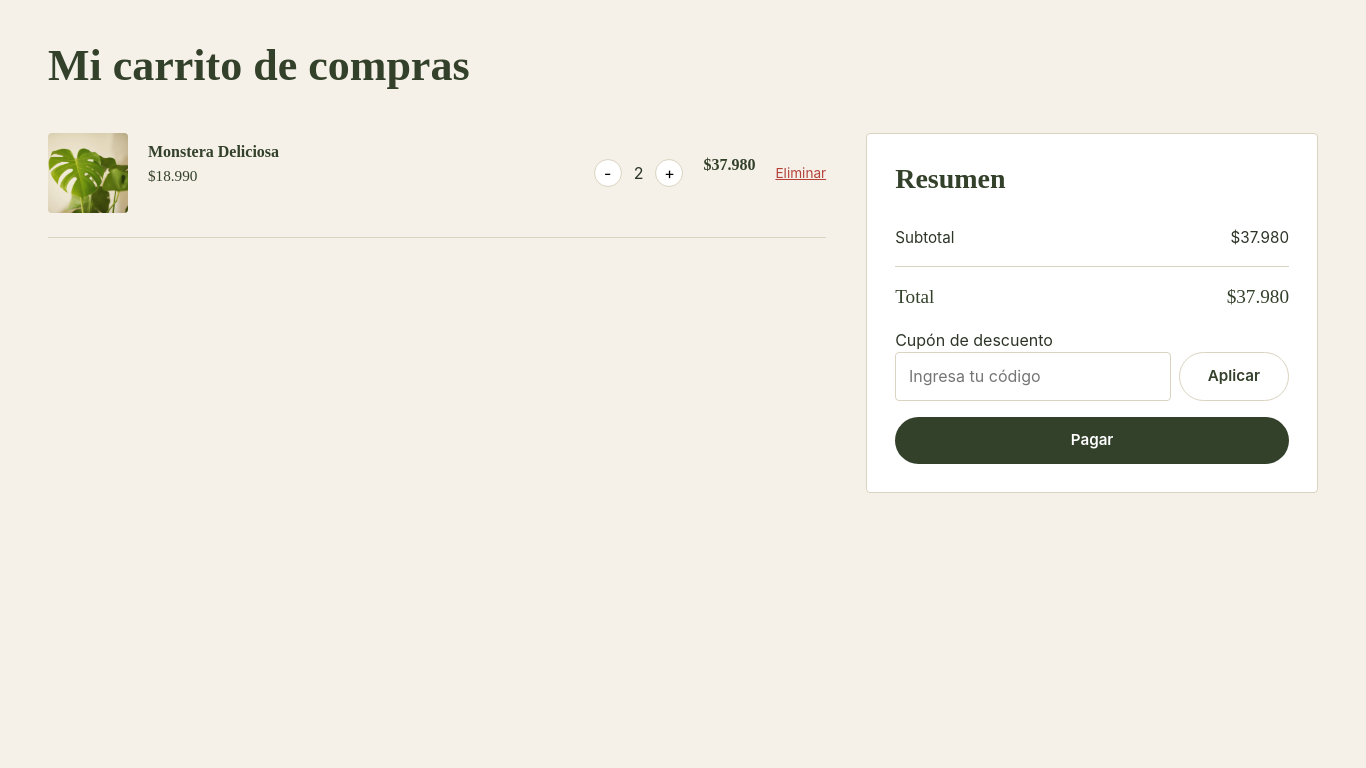
Carrito › Pagar con productos vacía el carrito y confirma la compra
This screenshot has width=1366, height=768.
Click the button "Pagar" at [1092, 440], box x1=895 y1=417 x2=1289 y2=464
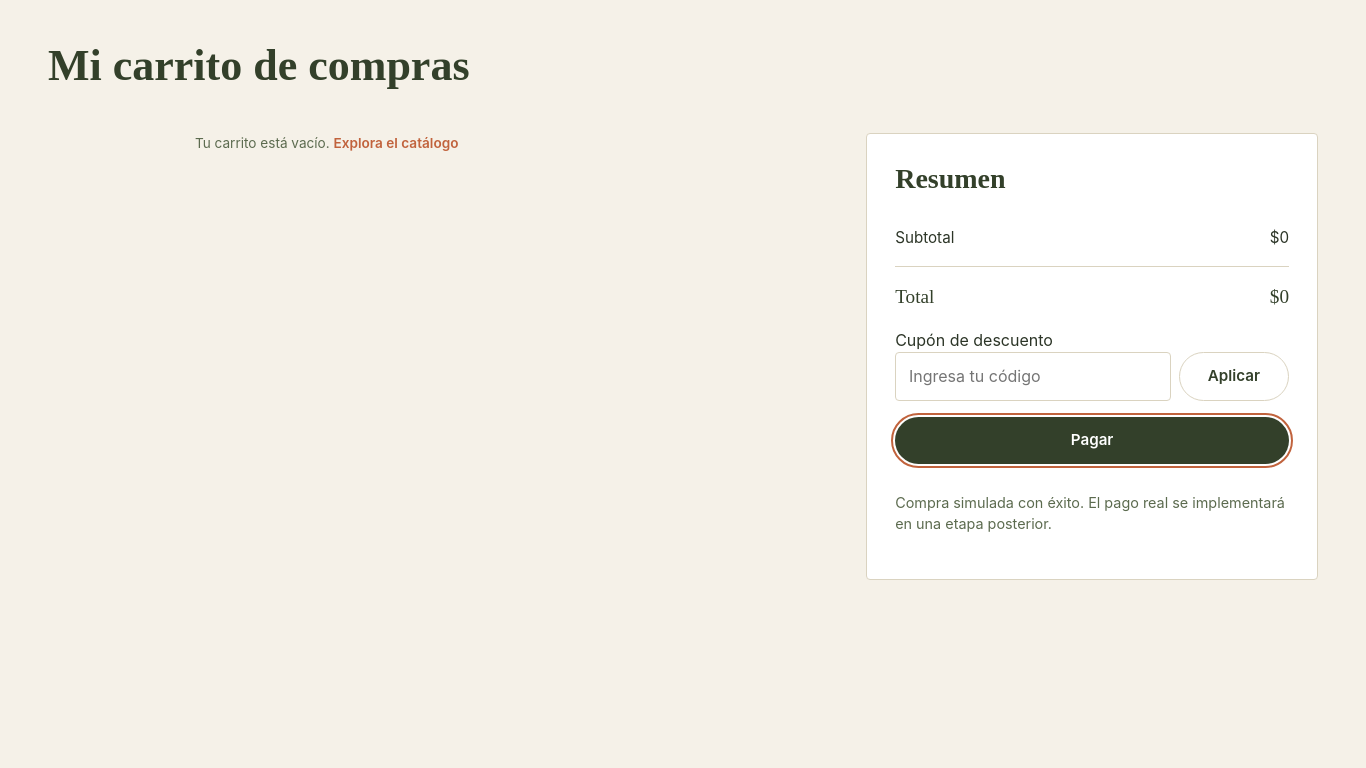
Expected: the message shows "Compra simulada con éxito", x1=895 y1=494 x2=1285 y2=532
Expected: the text with test id "carrito-total" reads "$0", x1=1270 y1=286 x2=1289 y2=307
